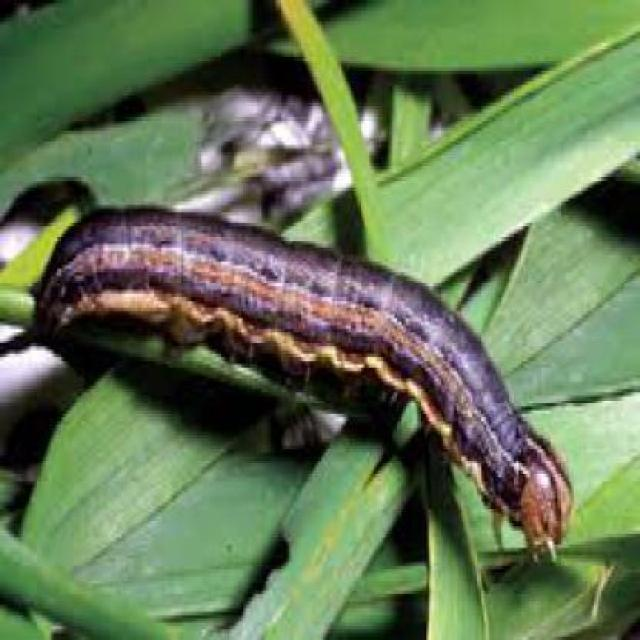Plaga: (23, 164, 610, 589)
